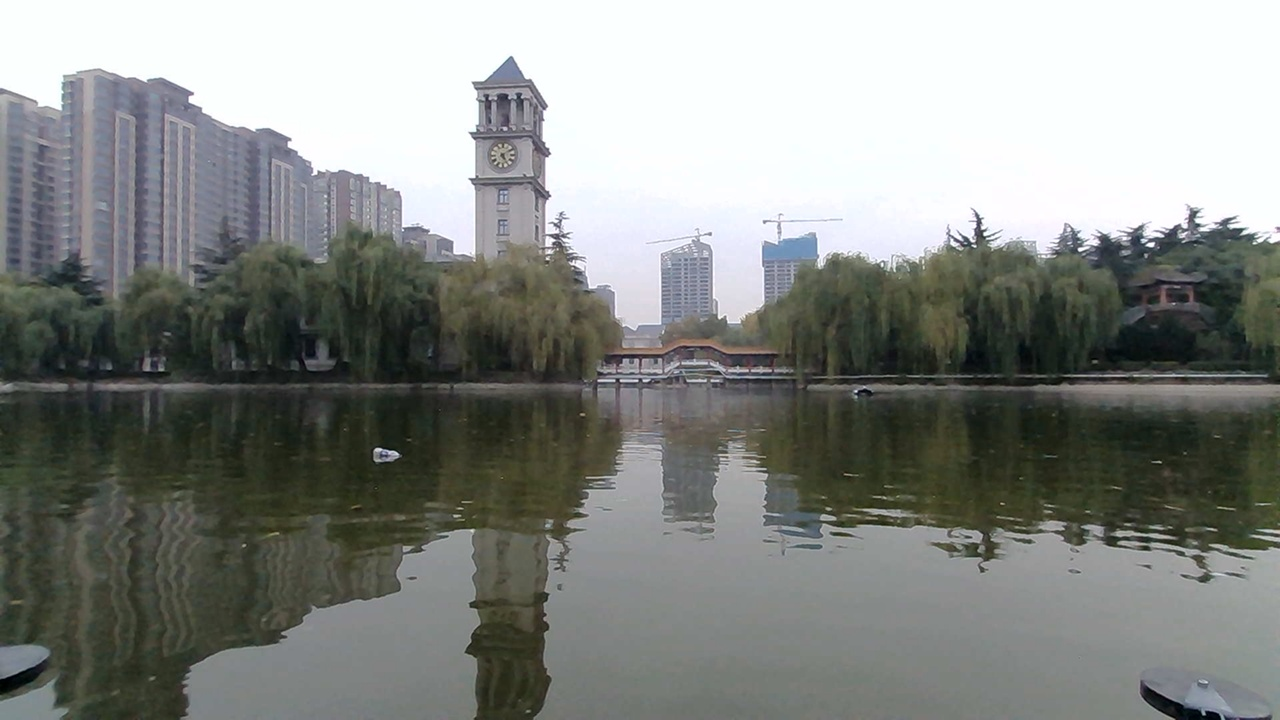bottle: (370, 433, 422, 471)
